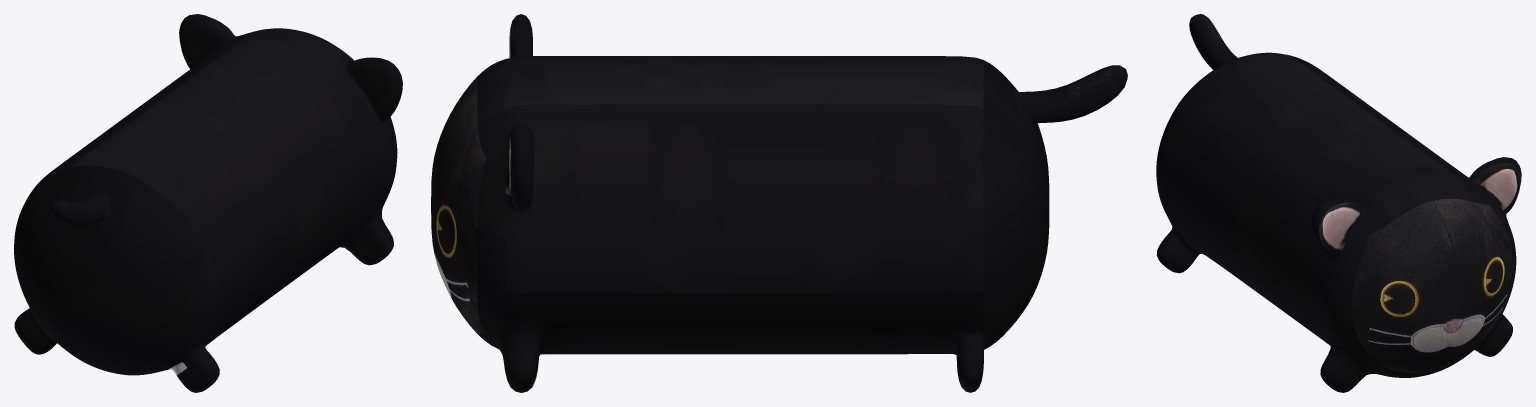
The model's file is toy_black_cat111.fbx.
The picture shows the model from 3 angles, left to right: view 1: azimuth 30°, elevation 25°; view 2: azimuth 150°, elevation 25°; view 3: azimuth 270°, elevation 25°; orthographic projection. The views are drawn at different scales.
Visible parts, largest first — view 1: black_cat; view 2: black_cat; view 3: black_cat.
Part boxes in pixels (<box>): black_cat: <box>14,14,402,392</box>; black_cat: <box>431,14,1127,392</box>; black_cat: <box>1156,14,1521,392</box>.
Size of the model in its own units: 417 by 199 by 329.
Materials: 2 (2 with a texture image).
